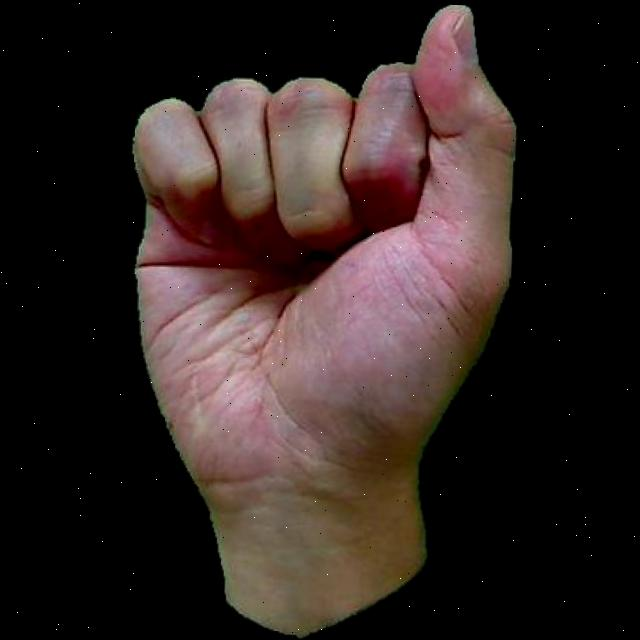a: (88, 0, 521, 640)
